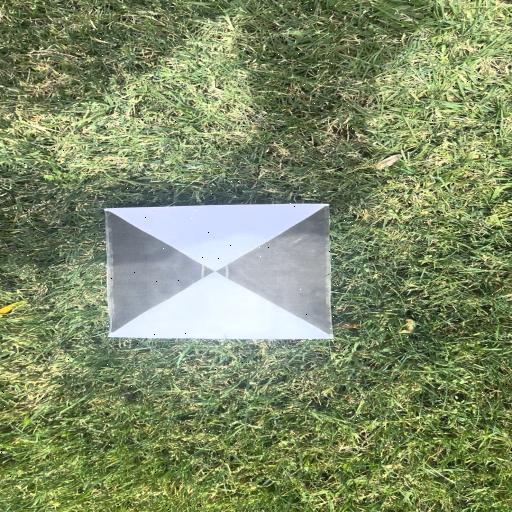target: (105, 208, 332, 337)
